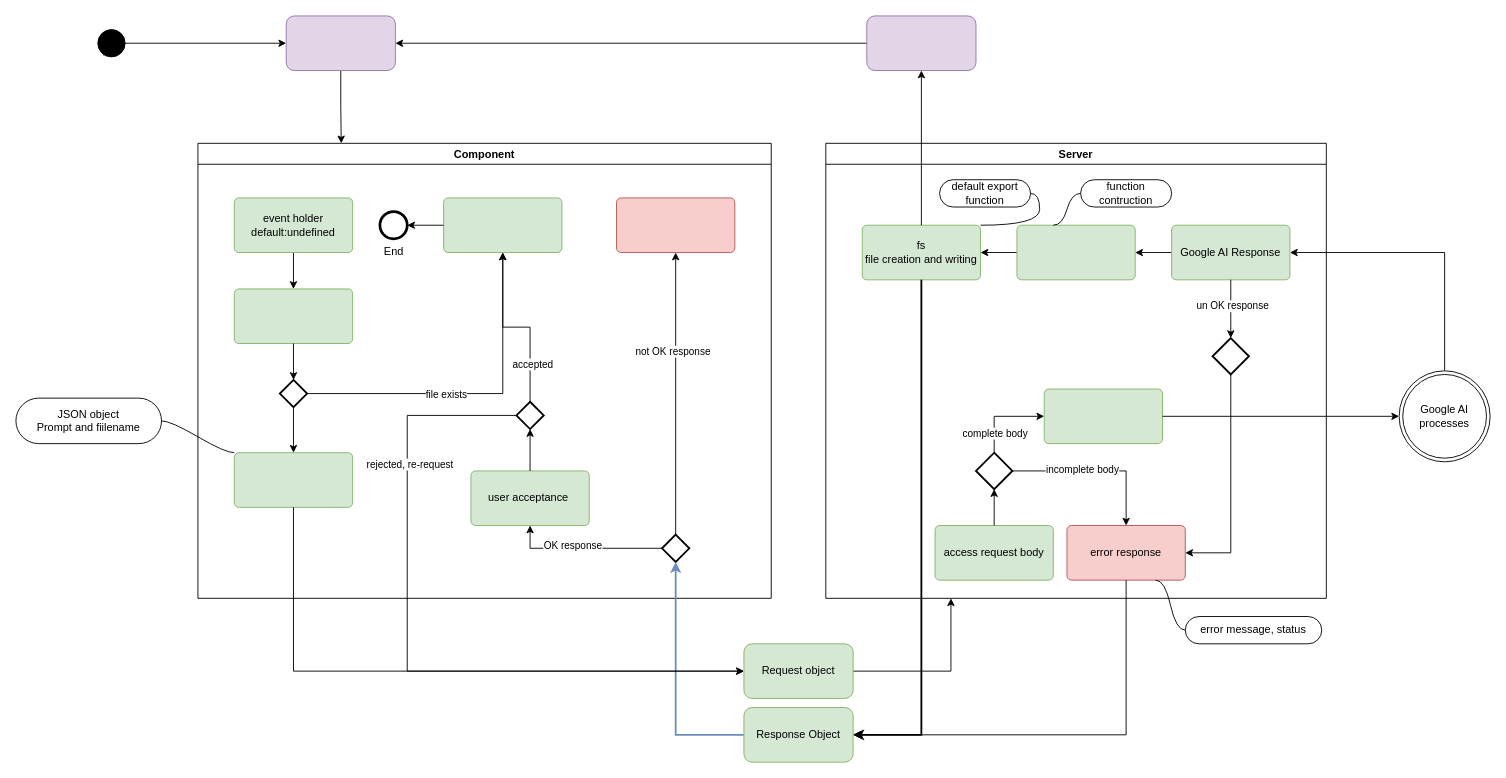
Image size: 1506x778. Some labels were removed from this diagram. Here are the shapes that lost their labels. From the top down, the centre of each, then its label:
At pixel 340 43: "Build ready library".
At pixel 921 43: "trigger rebuild".
At pixel 502 225: "update event".
At pixel 675 225: "error holder default:null".
At pixel 1075 252: "response preprocessing".
At pixel 293 316: "dynamic import".
At pixel 1103 416: "Google AI".
At pixel 293 479: "fetch API (post request)".
